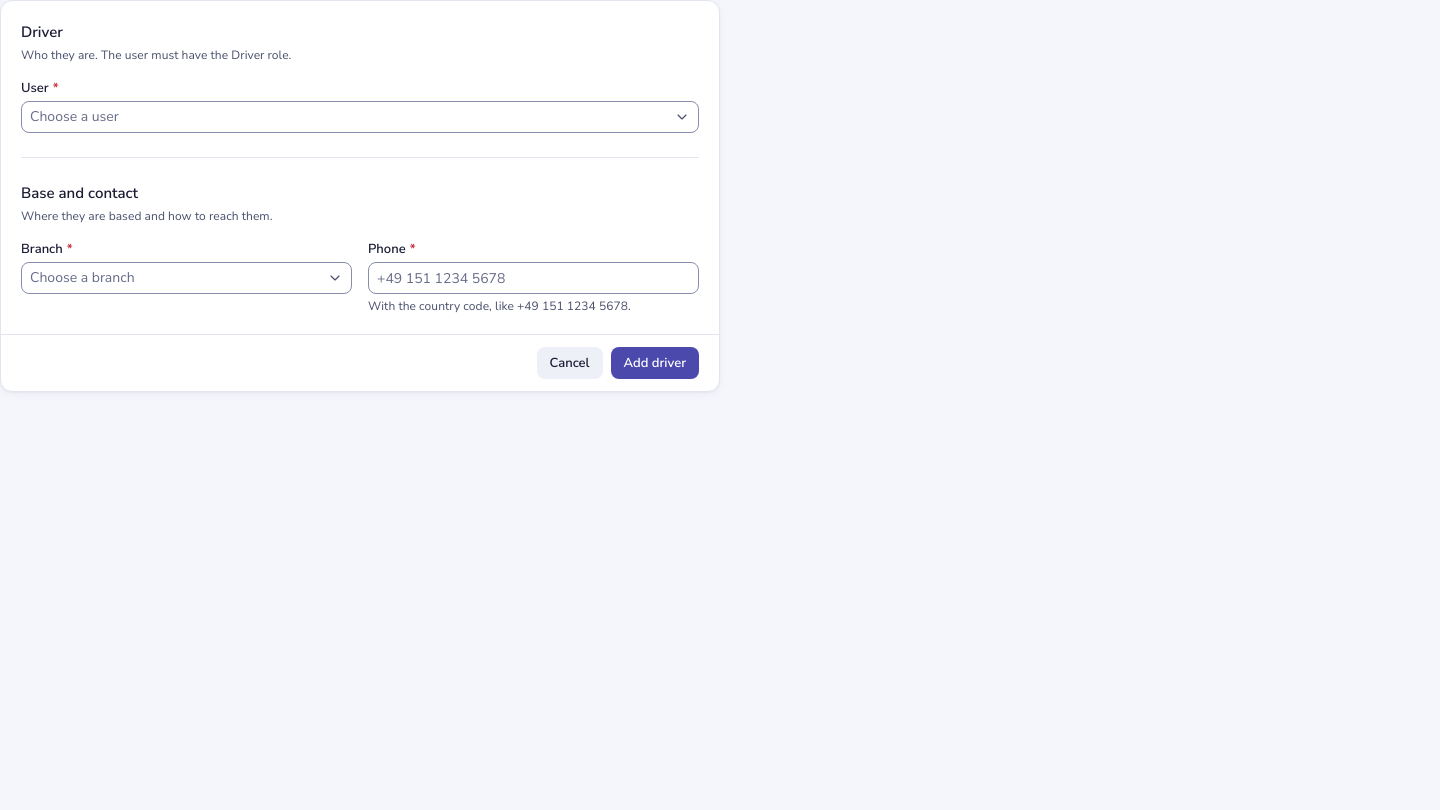
Test: DriverForm › adding a driver › lists only users who can still get a profile, and creates it with a normalized phone and a key
Click the dropdown labelled "Choose a user".
click(74, 116)  # box top-left (21, 101), bottom-right (699, 133)
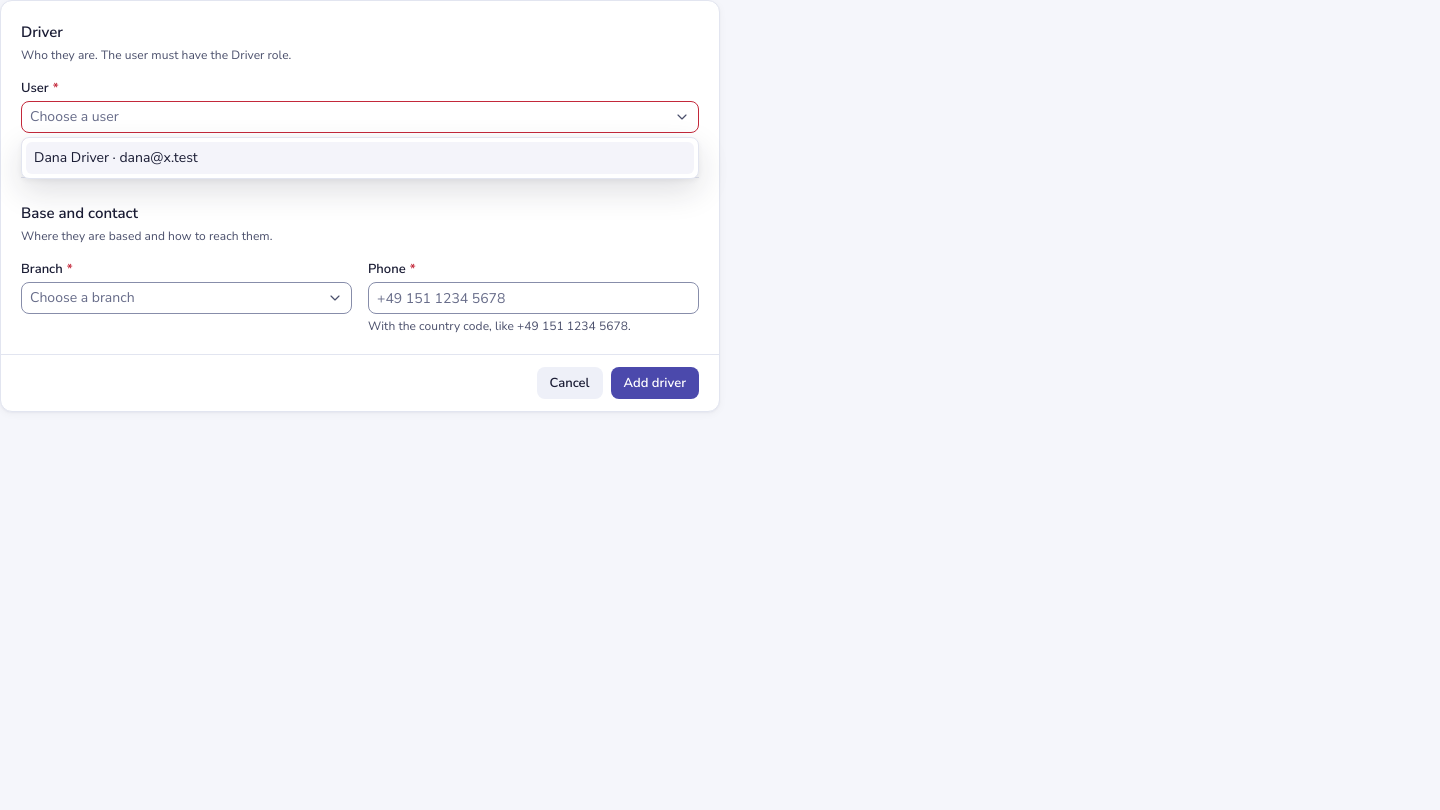
Expected: the option "Dana Driver · dana@x.test" is shown
Click the option "Dana Driver · dana@x.test".
click(116, 158)  # box top-left (26, 142), bottom-right (694, 174)
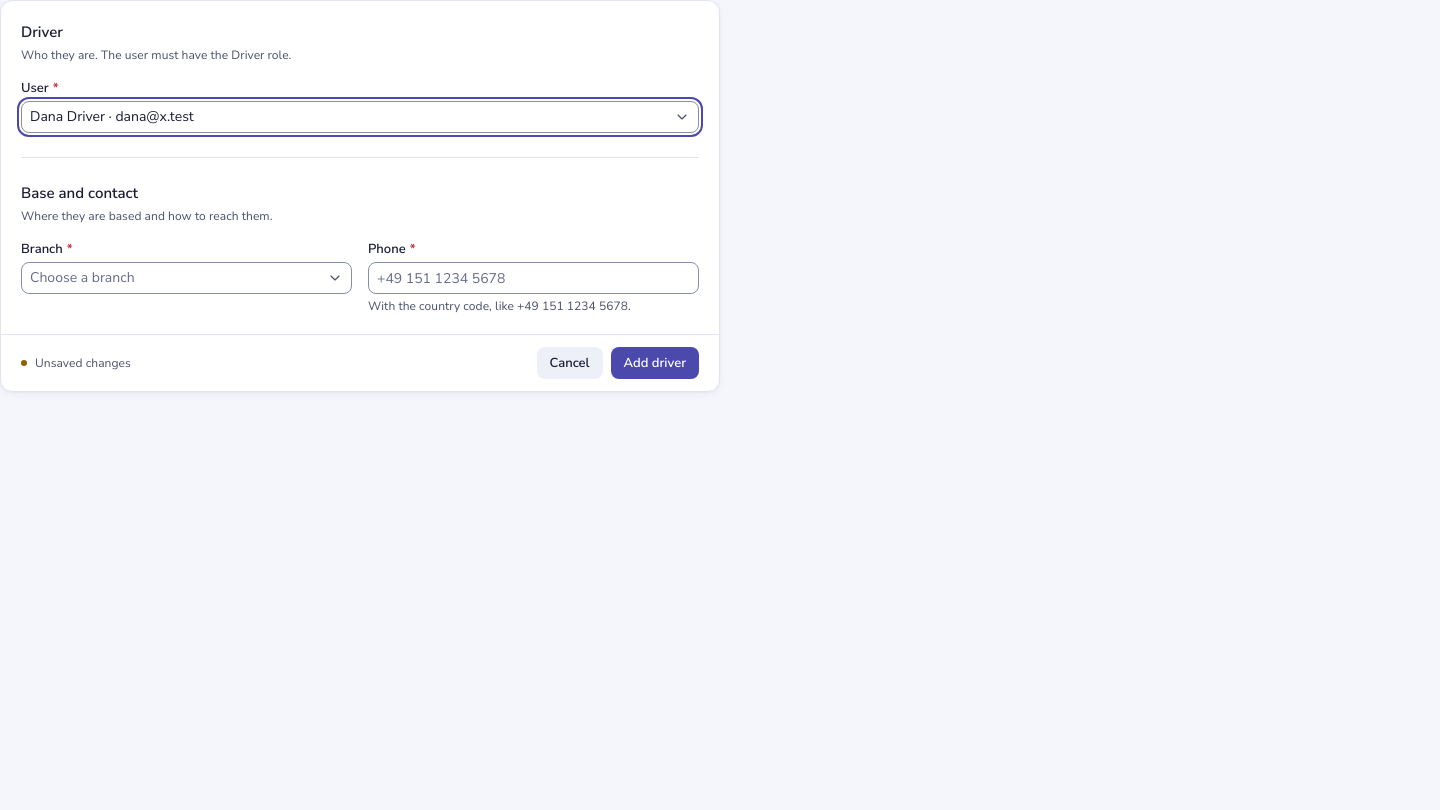
Click the dropdown labelled "Choose a branch".
click(82, 278)  # box top-left (21, 262), bottom-right (352, 294)
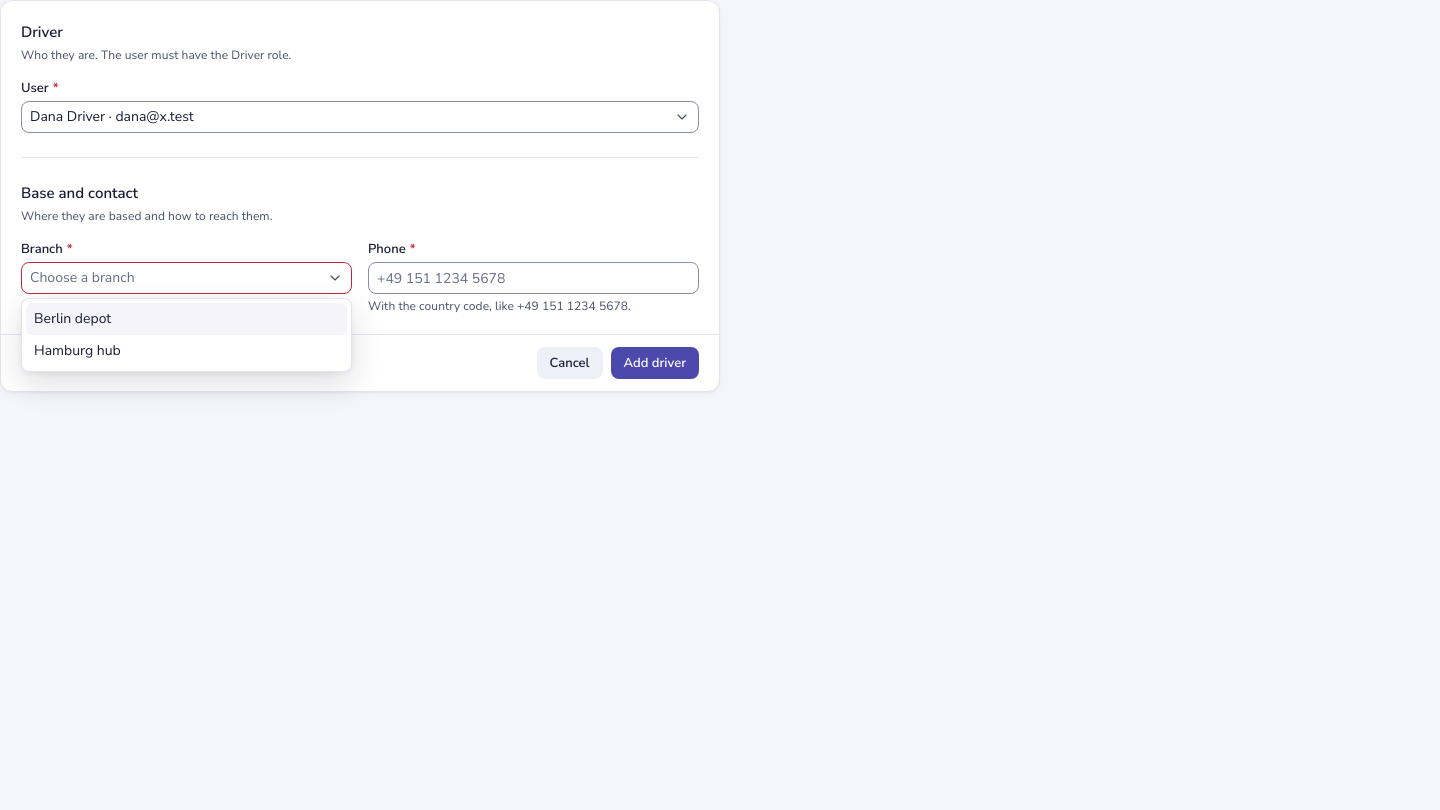
Click the option "Berlin depot".
click(73, 318)  # box top-left (26, 303), bottom-right (347, 335)
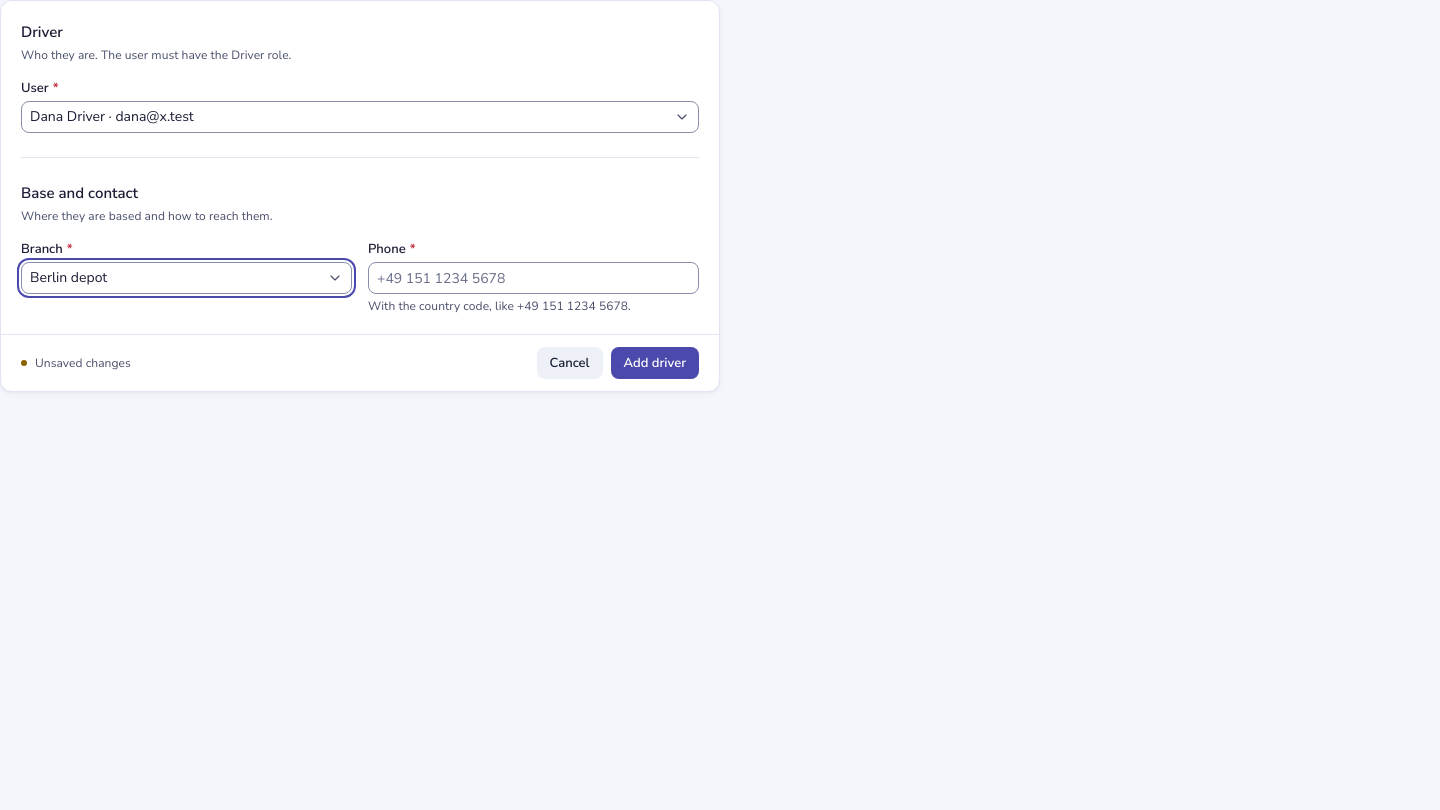
Type "+49 (151) 1234-5678" into the field labelled "Phone*".
click(534, 278); type("+49 (151) 1234-5678")  # box top-left (368, 262), bottom-right (699, 294)
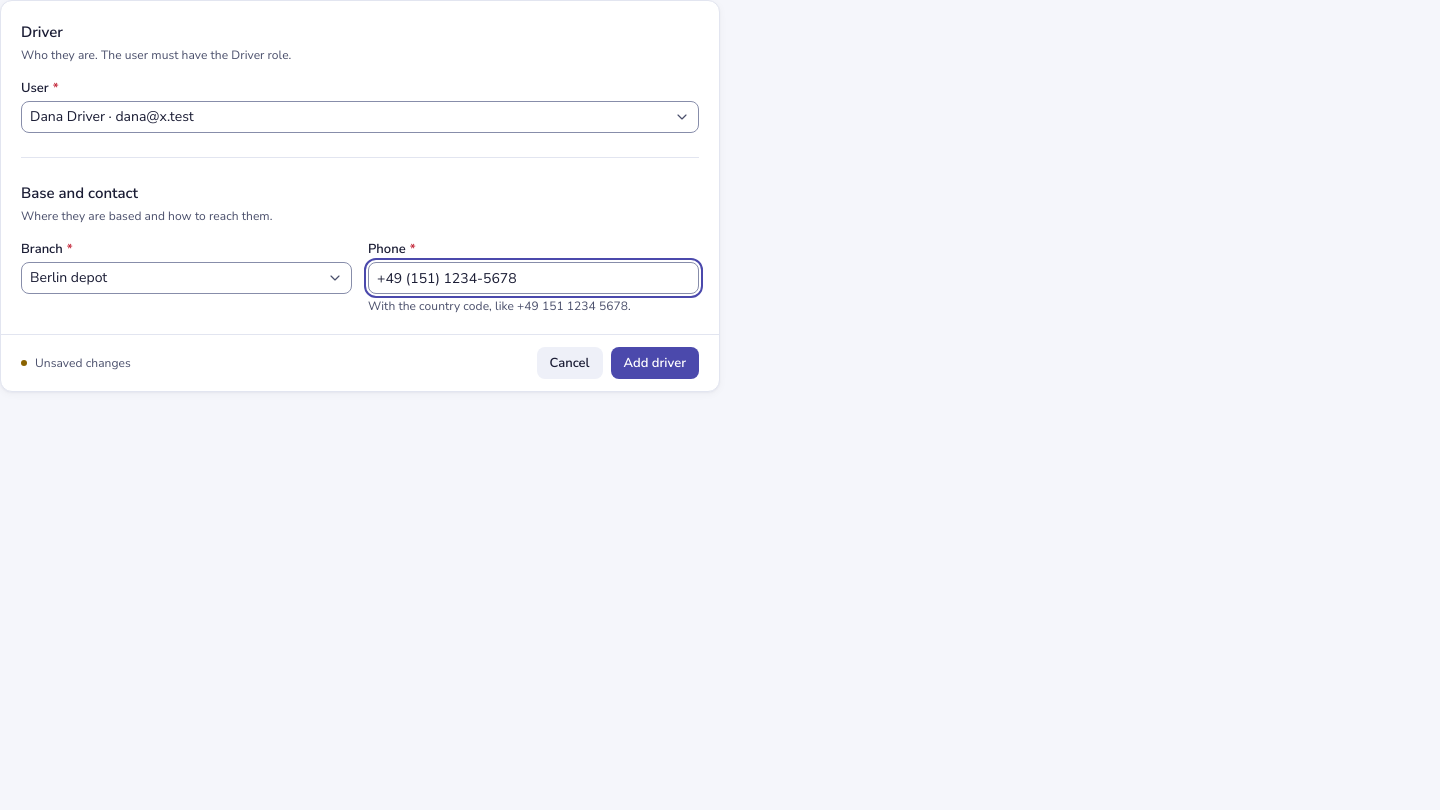
Click the button "Add driver".
click(655, 363)  # box top-left (610, 347), bottom-right (699, 379)
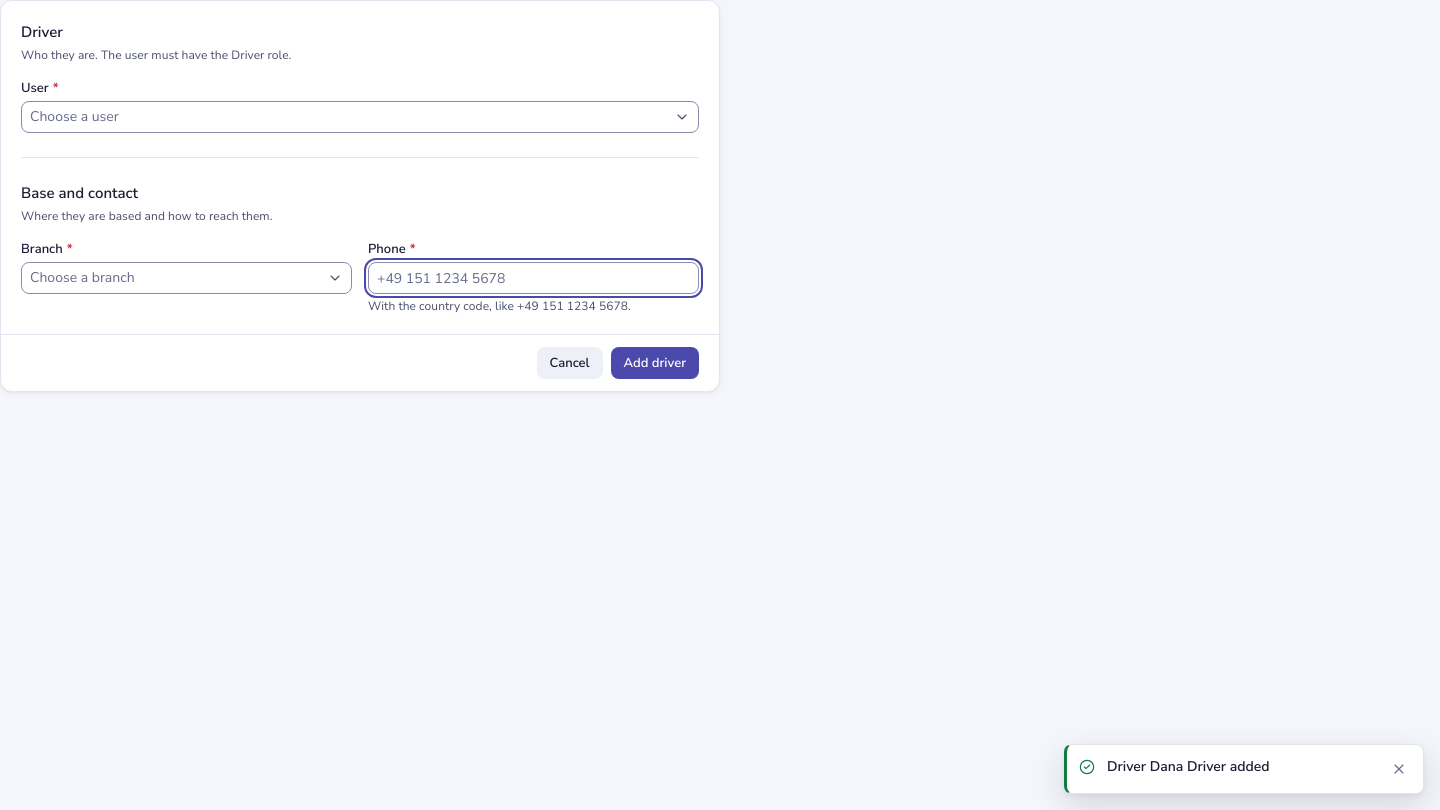
Expected: the text "Driver Dana Driver added" is shown, top-left (1107, 757), bottom-right (1270, 776)
